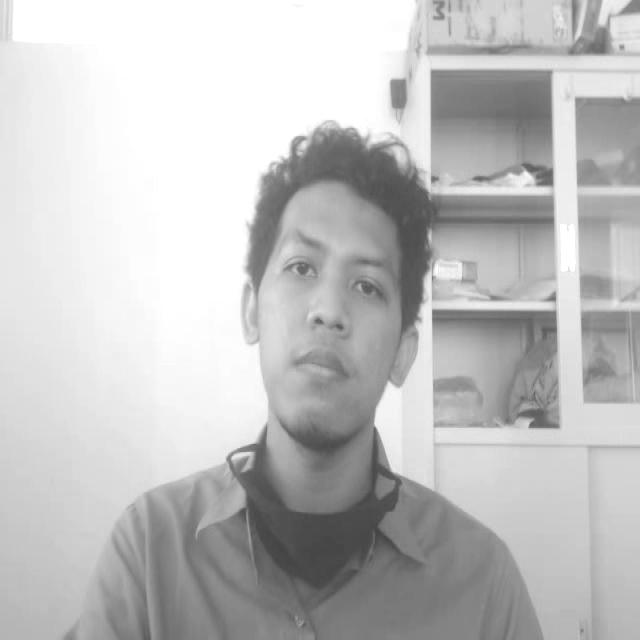real: (226, 116, 446, 464)
